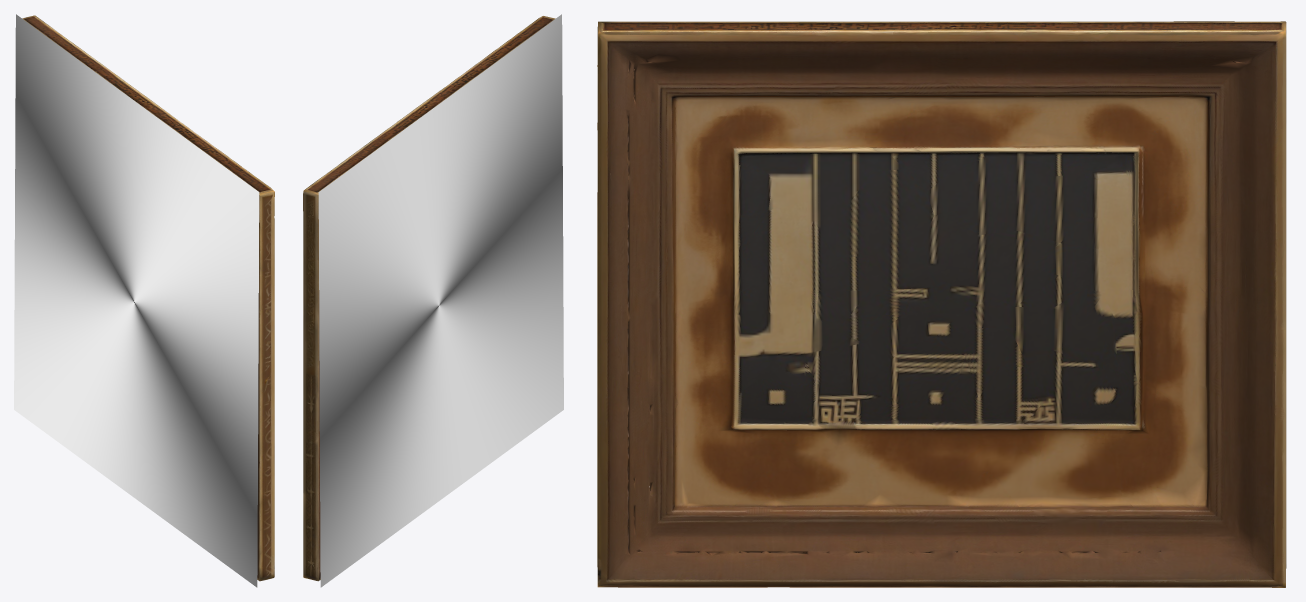
Rendered from frame2.glb.
The picture shows the model from 3 angles, left to right: view 1: azimuth 30°, elevation 25°; view 2: azimuth 150°, elevation 25°; view 3: azimuth 270°, elevation 25°; orthographic projection. The views are drawn at different scales.
Visible parts, largest first — view 1: Plane, Mesh_0; view 2: Plane, Mesh_0; view 3: Mesh_0.
Part boxes in pixels (left/top/right/bottom): Plane: left=14, top=14, right=259, bottom=587; Mesh_0: left=22, top=15, right=274, bottom=581; Plane: left=318, top=14, right=563, bottom=587; Mesh_0: left=303, top=16, right=555, bottom=581; Mesh_0: left=597, top=21, right=1286, bottom=587.
Bounding box in the file's own units: 0.1059 × 1.82 × 2.03.
1 material, 1 textured.
